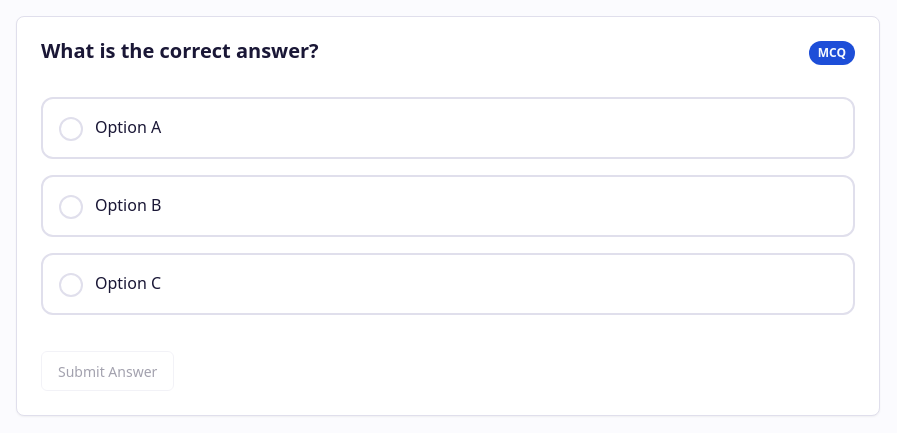
Scenario: Question Component › allows selecting an option
Click the text "Option A".
click(128, 127)  # box [95, 116, 161, 138]
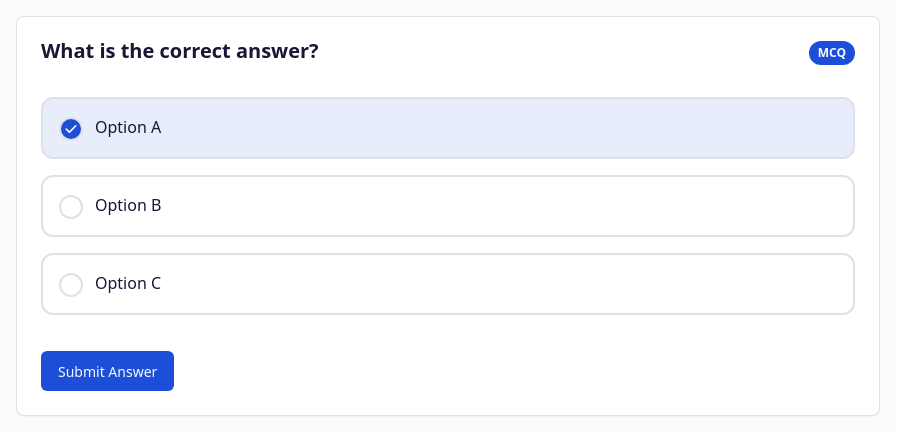
Now the button "Submit Answer" is enabled, box [41, 351, 174, 391]
